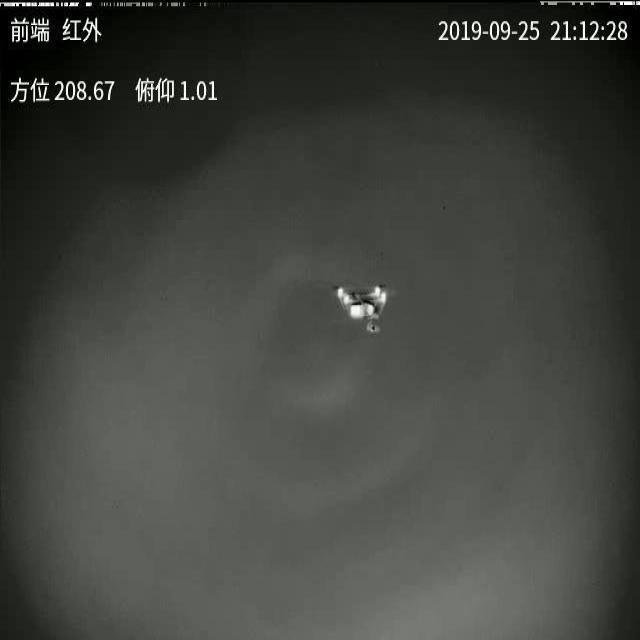drone: (326, 276, 402, 336)
